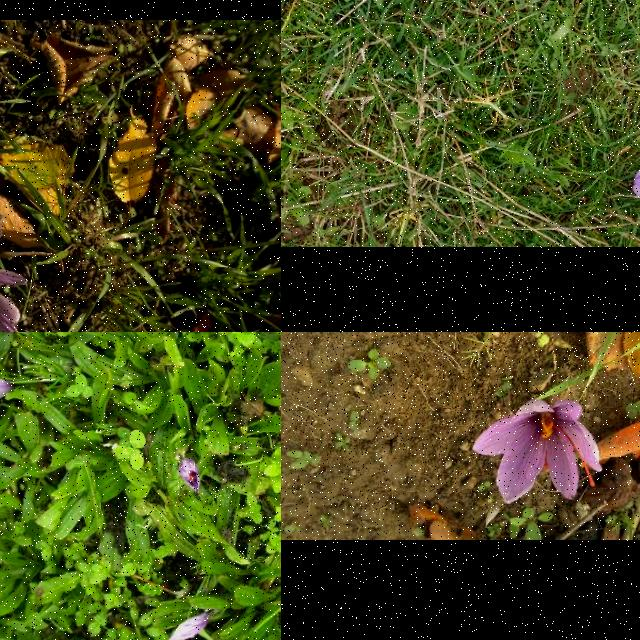flower: (472, 399, 604, 505), (166, 615, 208, 640), (179, 458, 201, 494), (0, 375, 11, 403)
